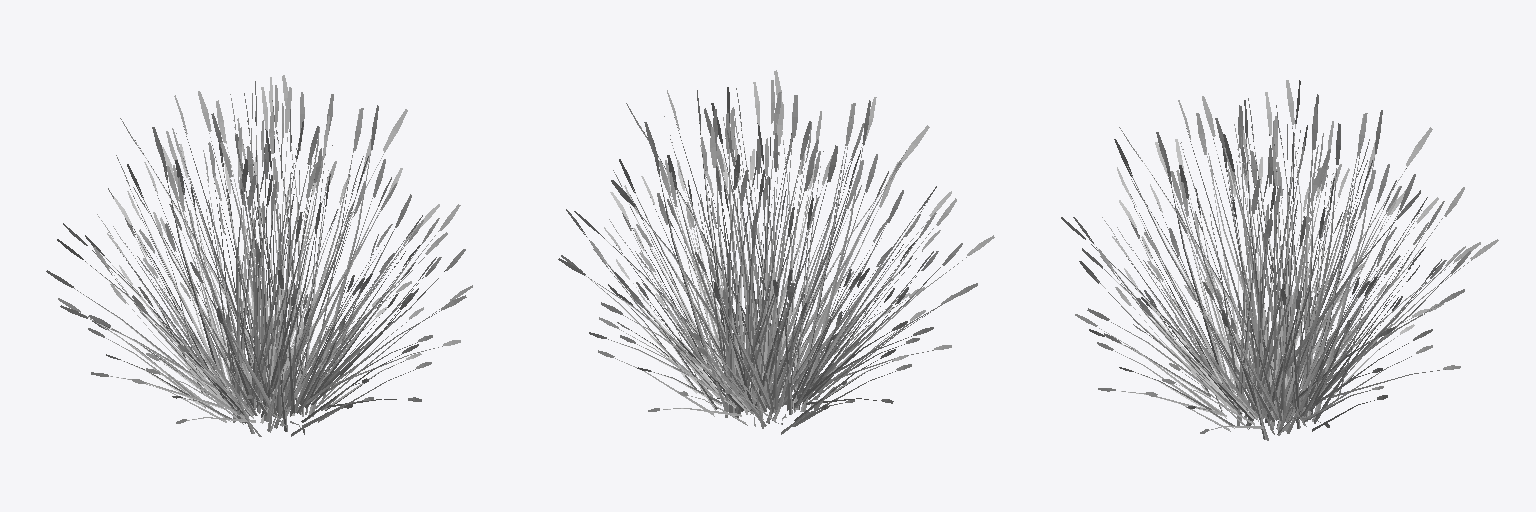
The model's file is Grass_Regal_Mist.obj.
3 renders of one model, left to right at view 1: azimuth 30°, elevation 25°; view 2: azimuth 150°, elevation 25°; view 3: azimuth 270°, elevation 25°, orthographic.
Bounding box in the file's own units: 36.35 × 28.99 × 36.44.